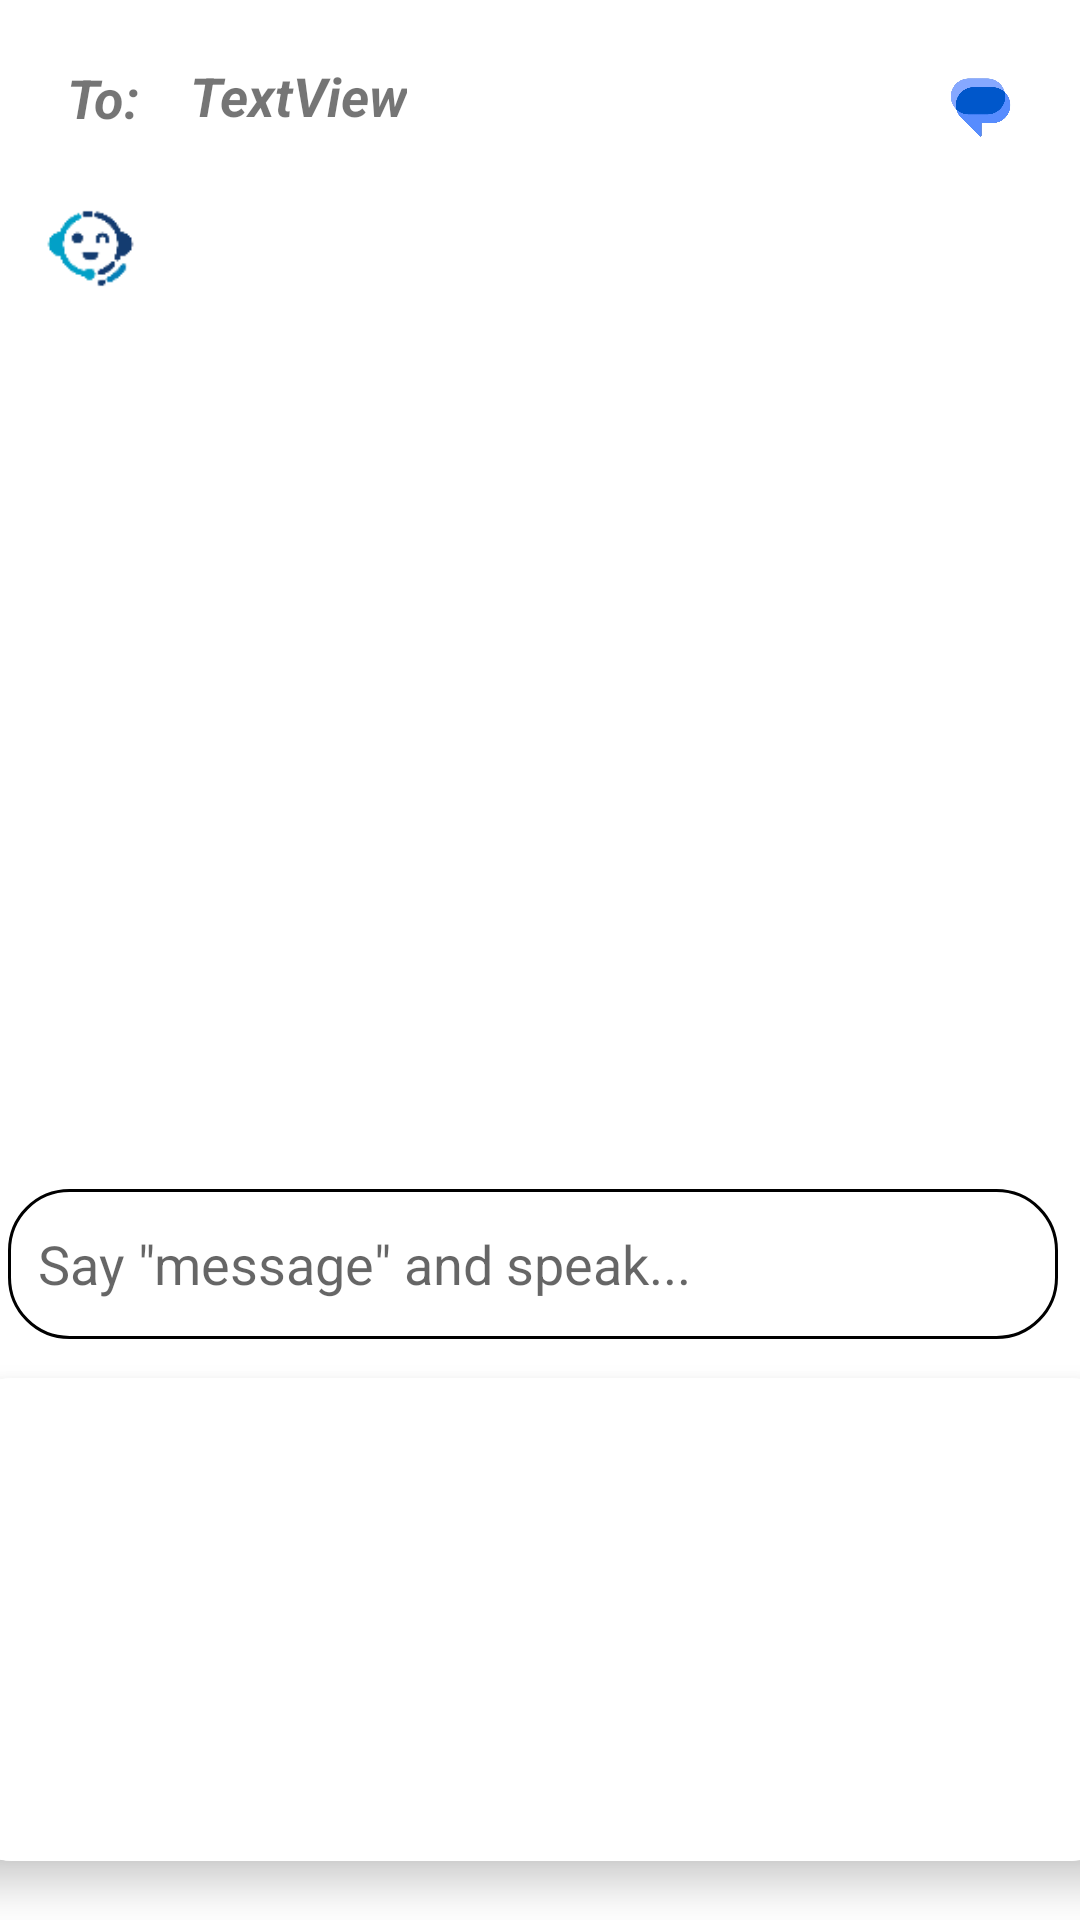

Icons on this 1080*1920 Android screen, each with the point to tap as (x=x, y=y):
helpbotresized: (x=90, y=248)
